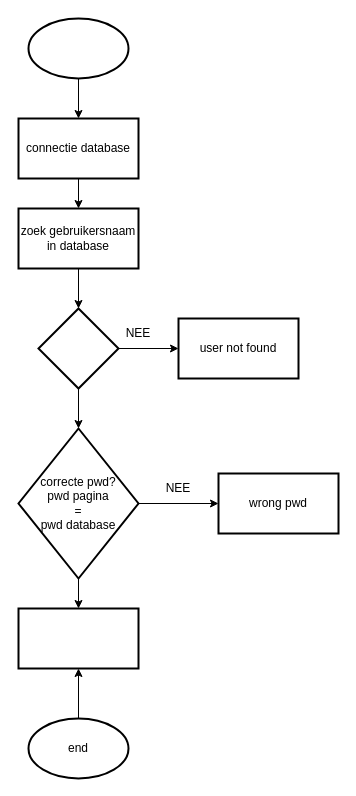
This 356x796 diagram has some shape labels left out. The shapes that lost their labels are listed below. From the top down, each one's box as (x1, y1, x2, y2) in pixels, then its label:
(27, 17, 129, 79): start
(37, 307, 119, 389): gevonden?
(17, 607, 139, 669): maak inlogsessie
